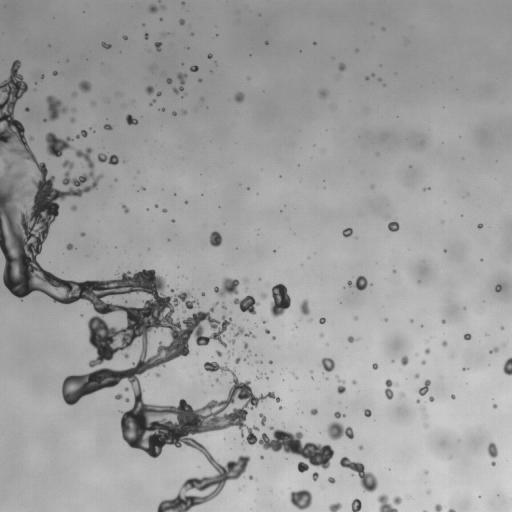droplet: (270, 283, 290, 317), (43, 95, 67, 121), (232, 294, 259, 314), (327, 421, 354, 440), (289, 489, 312, 511), (214, 277, 239, 297), (377, 494, 398, 511), (347, 276, 368, 290), (384, 379, 397, 399), (209, 231, 222, 247), (417, 379, 430, 395), (321, 357, 334, 372), (299, 299, 310, 315), (502, 357, 511, 375), (487, 442, 497, 457), (79, 81, 91, 92), (351, 498, 361, 511), (388, 220, 399, 231), (126, 114, 138, 124), (329, 502, 342, 511), (234, 92, 244, 102), (342, 228, 352, 237), (76, 130, 87, 137), (334, 411, 345, 418), (4, 160, 12, 169), (121, 204, 129, 213), (149, 5, 157, 13), (145, 86, 153, 94), (319, 90, 327, 98), (393, 496, 401, 504), (154, 42, 161, 51), (401, 356, 408, 365), (101, 42, 111, 48), (364, 409, 371, 417), (347, 336, 356, 342), (260, 292, 267, 299), (464, 333, 471, 340), (235, 356, 242, 363), (435, 504, 442, 511), (339, 63, 345, 71), (190, 65, 198, 71), (104, 124, 112, 130), (495, 284, 501, 292), (490, 347, 498, 353), (312, 472, 318, 480), (66, 244, 73, 250), (319, 317, 326, 323), (310, 408, 317, 414), (328, 477, 335, 483), (166, 78, 172, 84), (216, 350, 222, 356), (372, 363, 378, 369), (115, 394, 122, 399), (179, 19, 184, 25), (221, 303, 226, 309), (425, 348, 430, 354), (156, 91, 161, 96), (71, 205, 76, 210), (243, 278, 248, 283), (442, 341, 447, 346), (414, 373, 419, 378), (399, 392, 404, 397), (429, 396, 434, 401), (144, 33, 148, 39), (52, 71, 57, 75), (162, 208, 167, 212), (477, 224, 482, 228), (451, 394, 455, 399), (208, 54, 212, 58), (25, 107, 29, 111), (172, 111, 176, 115), (182, 110, 186, 114), (70, 118, 74, 122), (81, 232, 85, 236), (265, 329, 269, 333), (421, 360, 425, 364), (215, 379, 219, 383), (352, 380, 356, 384), (124, 387, 128, 391), (125, 398, 129, 402), (493, 404, 497, 408), (421, 407, 425, 411), (359, 445, 363, 449), (491, 461, 495, 465), (462, 367, 467, 370), (123, 36, 127, 39), (73, 92, 76, 96), (29, 137, 33, 140), (424, 187, 428, 190), (441, 320, 445, 323), (156, 373, 160, 376), (424, 470, 428, 473), (249, 475, 252, 479), (365, 76, 368, 79), (198, 79, 201, 82), (392, 269, 395, 272), (183, 309, 186, 312), (354, 317, 357, 320), (262, 320, 265, 323), (320, 333, 323, 336), (269, 360, 272, 363), (416, 399, 419, 402), (279, 406, 282, 409), (161, 6, 164, 8), (92, 102, 94, 105), (142, 187, 144, 190), (185, 200, 187, 203), (155, 204, 157, 207), (172, 219, 174, 222), (171, 289, 173, 292), (272, 337, 275, 339), (260, 456, 263, 458), (182, 2, 184, 4), (355, 49, 357, 51), (42, 75, 44, 77), (162, 108, 164, 110), (202, 293, 204, 295), (385, 318, 387, 320), (229, 353, 231, 355), (244, 358, 246, 360), (258, 361, 260, 363), (266, 377, 268, 379)
ligament: (0, 60, 328, 511), (340, 456, 377, 492), (173, 73, 186, 93), (234, 326, 255, 338), (97, 153, 118, 164), (336, 376, 345, 393), (259, 413, 266, 426), (243, 342, 250, 354), (149, 99, 155, 105), (257, 374, 264, 378), (292, 373, 297, 378), (448, 509, 455, 511), (423, 510, 426, 511)
